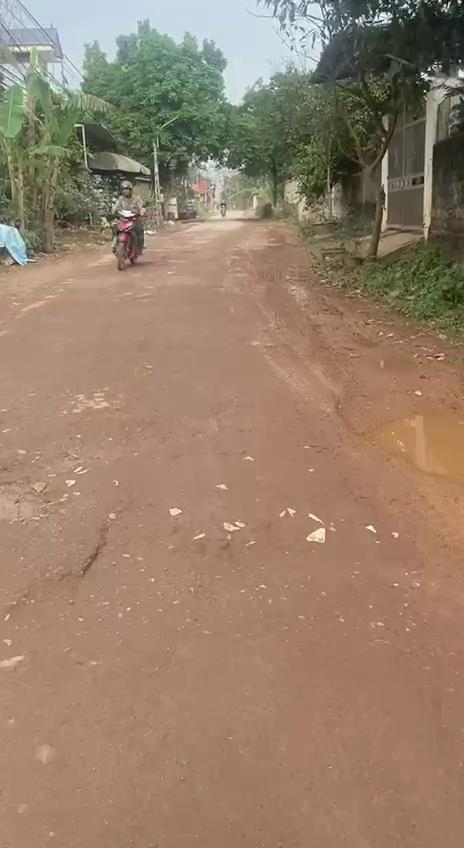pothole: (356, 402, 464, 504)
